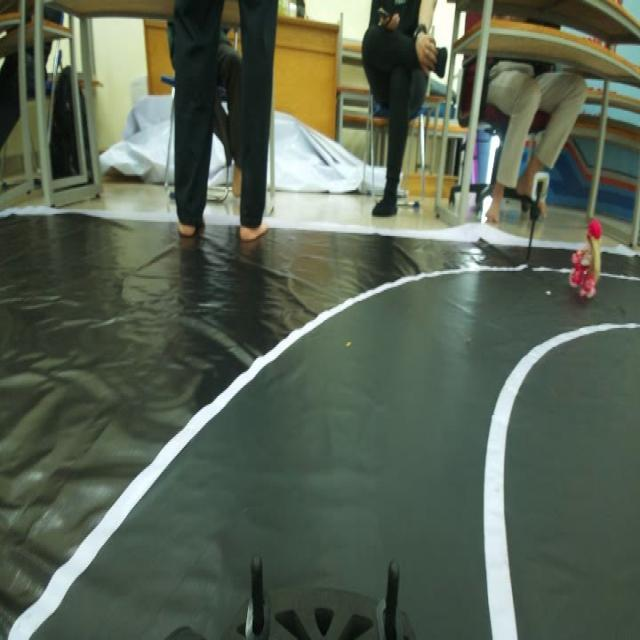pedestrian: (570, 208, 605, 308)
